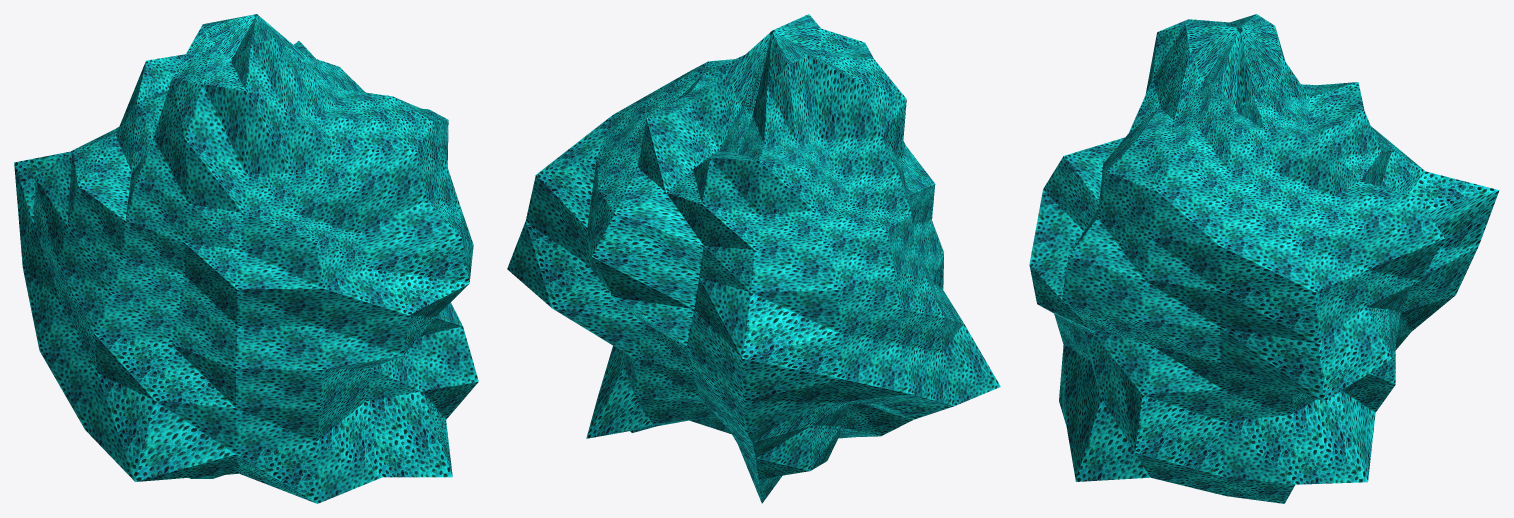
File: coral001a.obj
3 renders of one model, left to right at view 1: azimuth 30°, elevation 25°; view 2: azimuth 150°, elevation 25°; view 3: azimuth 270°, elevation 25°, orthographic. The views are drawn at different scales.
Visible parts, largest first — view 1: Landscape; view 2: Landscape; view 3: Landscape.
Boxes of the visible parts, x1,y1,x2,y2 form: Landscape: (14,14,478,503); Landscape: (507,14,1000,503); Landscape: (1029,14,1499,503).
Bounding box in the file's own units: 7.05 × 7.38 × 7.21.
Materials: 1 (1 with a texture image).
